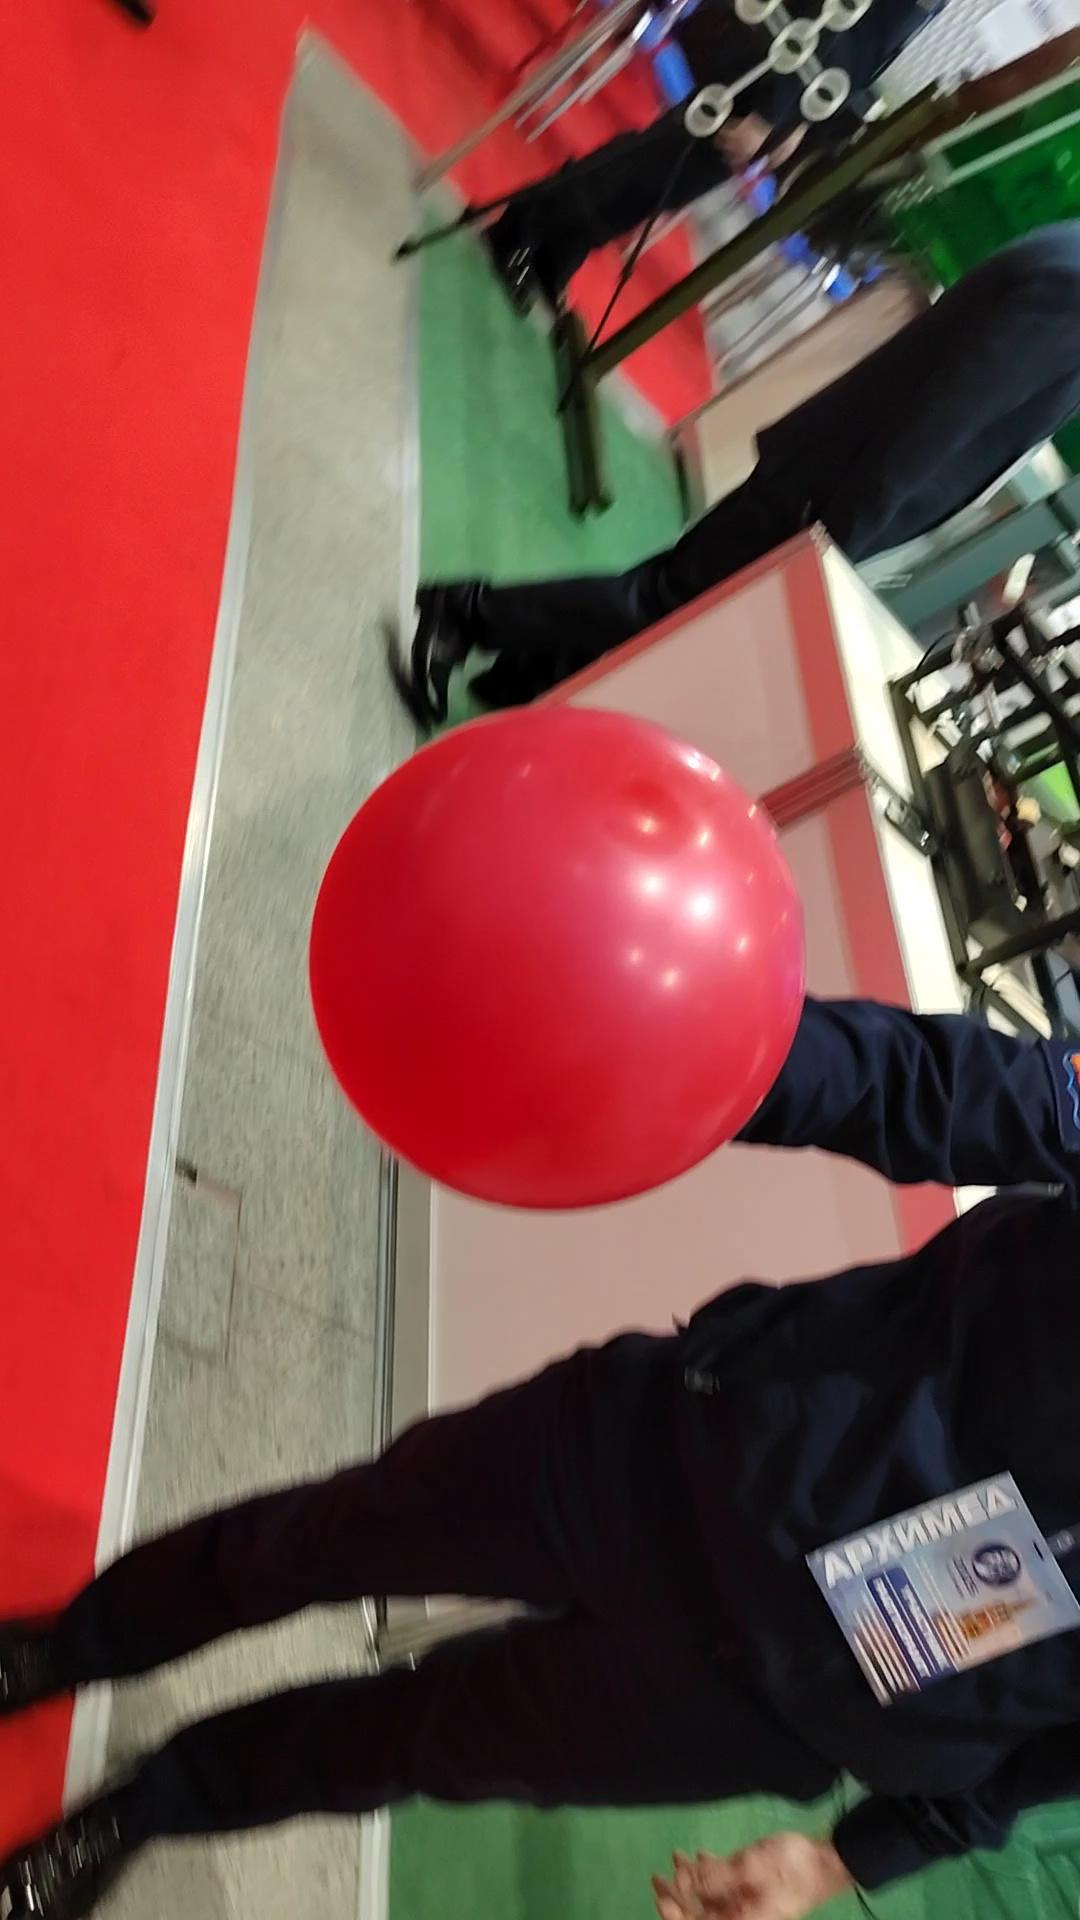red: (294, 673, 816, 1224)
